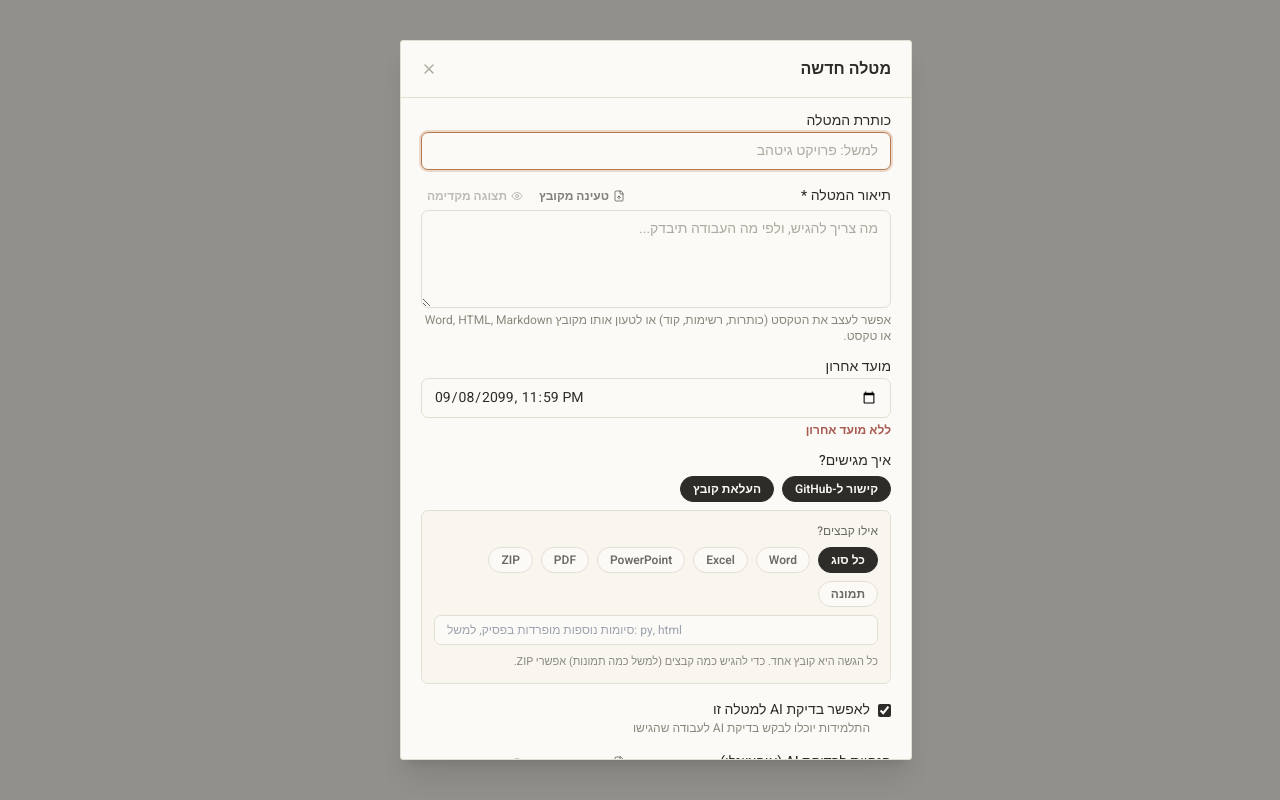
Scenario: AssignmentModal › will not save without a description
The image size is (1280, 800).
Type "פרויקט" into the field labelled "כותרת המטלה" at [656, 151], box x1=421 y1=132 x2=891 y2=170
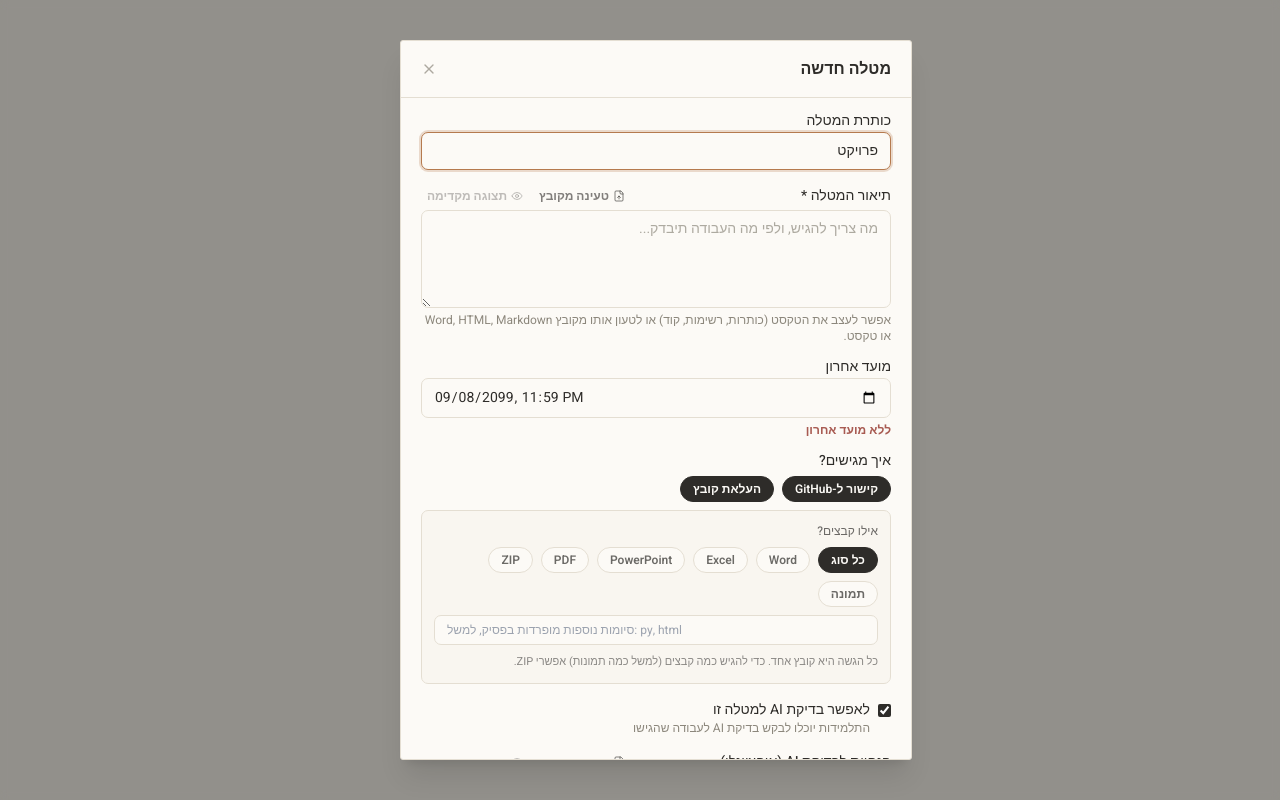
Type "הוראות בדיקה" into the text box labelled "תיאור המטלה *" at [656, 259], box x1=421 y1=210 x2=891 y2=308
(page scrolled)
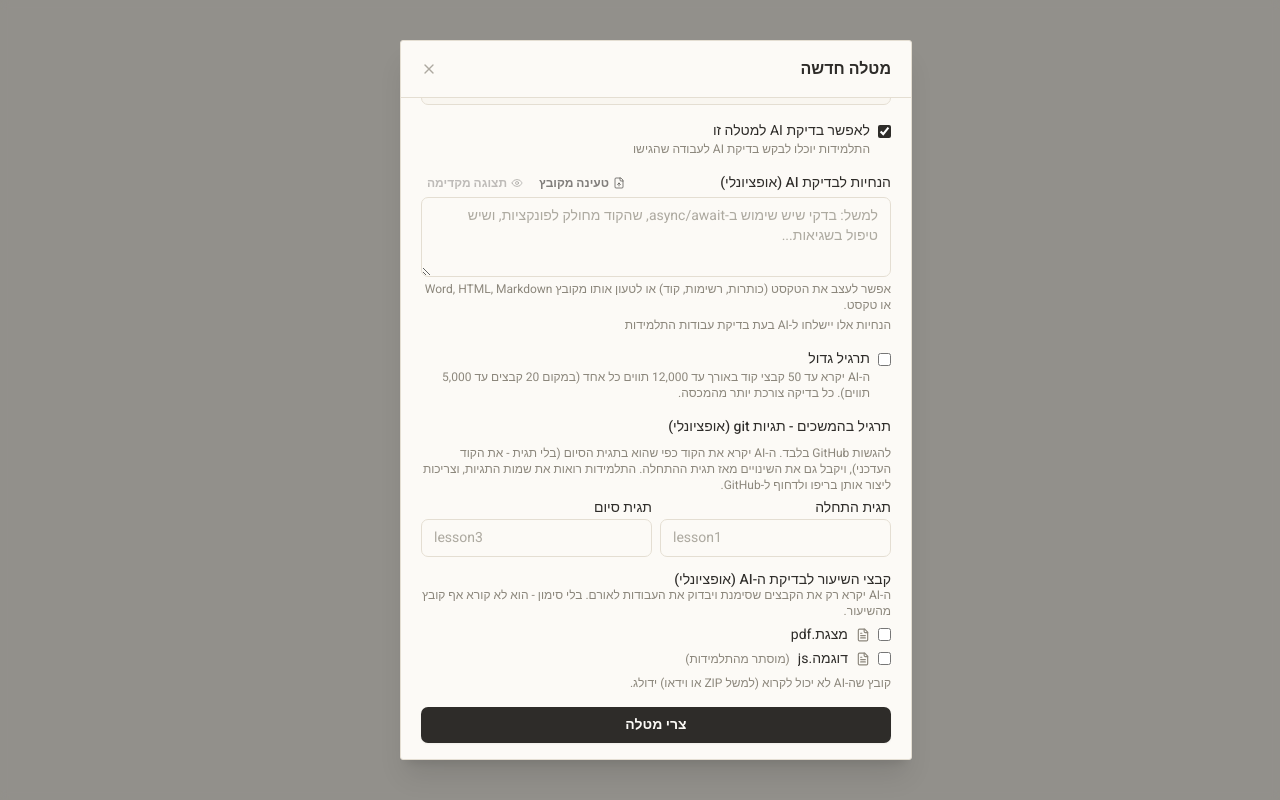
Result: the button "צרי מטלה" is enabled at x1=421 y1=707 x2=891 y2=743
